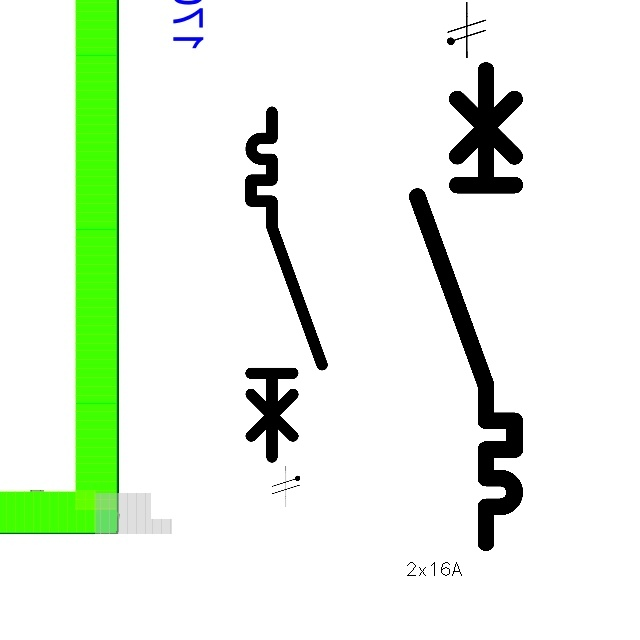interruptor_termomagnetico: (405, 58, 527, 555), (242, 103, 331, 466)
